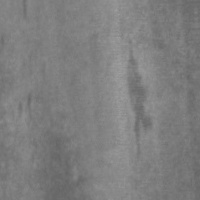inclusion: (119, 40, 160, 162), (14, 88, 39, 130)
